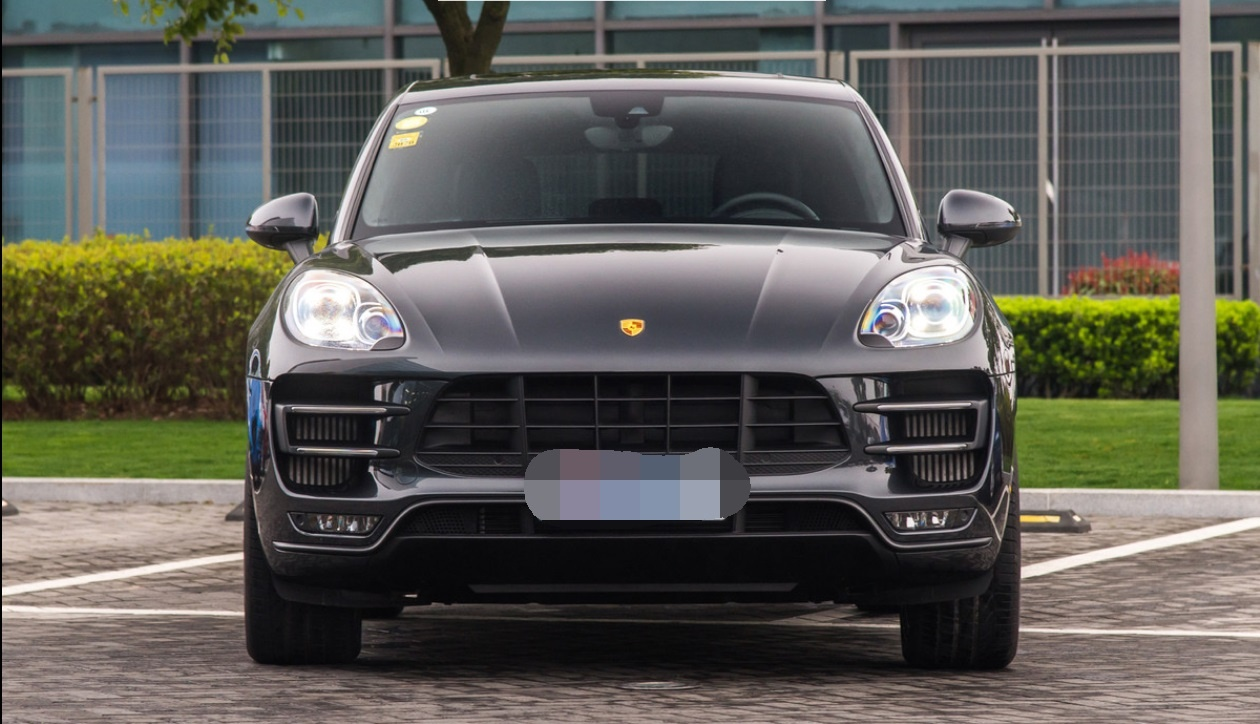SUV: (236, 63, 1032, 662)
